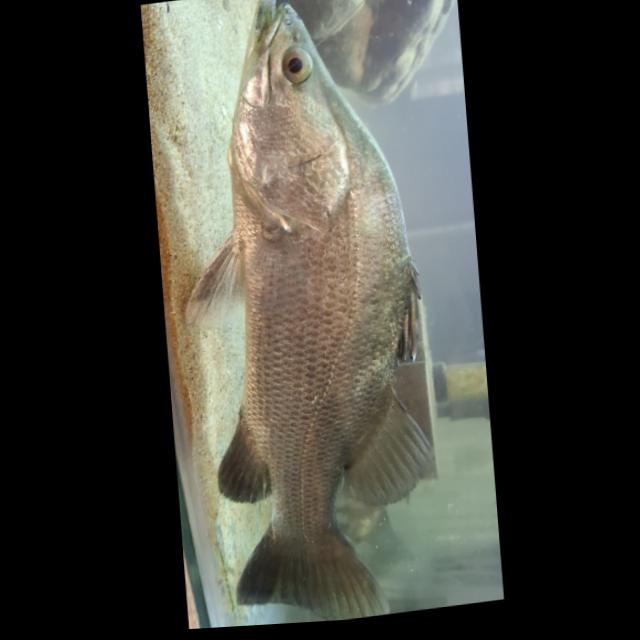Seabass: (181, 0, 446, 629)
